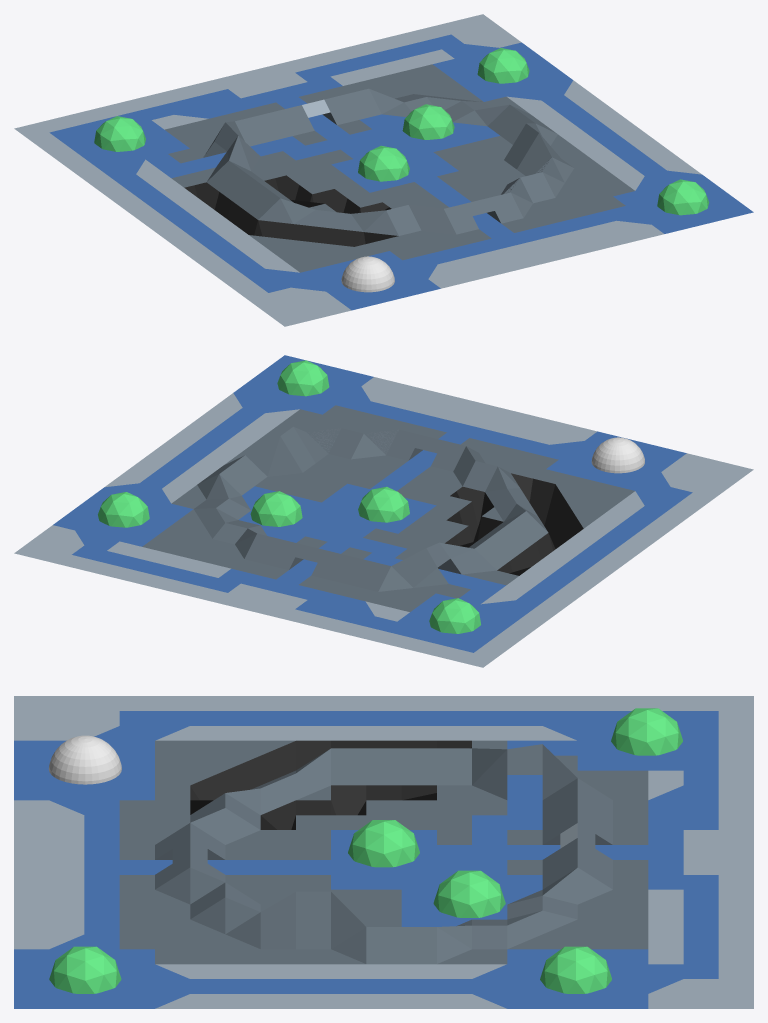
The model's file is ShinyPath_01.glb.
3 renders of one model, top to bottom at view 1: azimuth 30°, elevation 25°; view 2: azimuth 150°, elevation 25°; view 3: azimuth 270°, elevation 25°, orthographic. The views are drawn at different scales.
Visible parts, largest first — view 1: Surface_01, Surface_01.002, Surface_01.001; view 2: Surface_01, Surface_01.002, Surface_01.001; view 3: Surface_01, Surface_01.002, Surface_01.001.
Boxes of the visible parts, x1,y1,x2,y2 form: Surface_01: (14, 14, 753, 326); Surface_01.002: (94, 48, 709, 215); Surface_01.001: (341, 256, 394, 292); Surface_01: (14, 355, 753, 667); Surface_01.002: (98, 360, 480, 633); Surface_01.001: (591, 437, 644, 473); Surface_01: (14, 696, 753, 1008); Surface_01.002: (49, 708, 682, 993); Surface_01.001: (48, 735, 121, 784).
Size of the model in its own units: 20 by 2.87 by 20.
